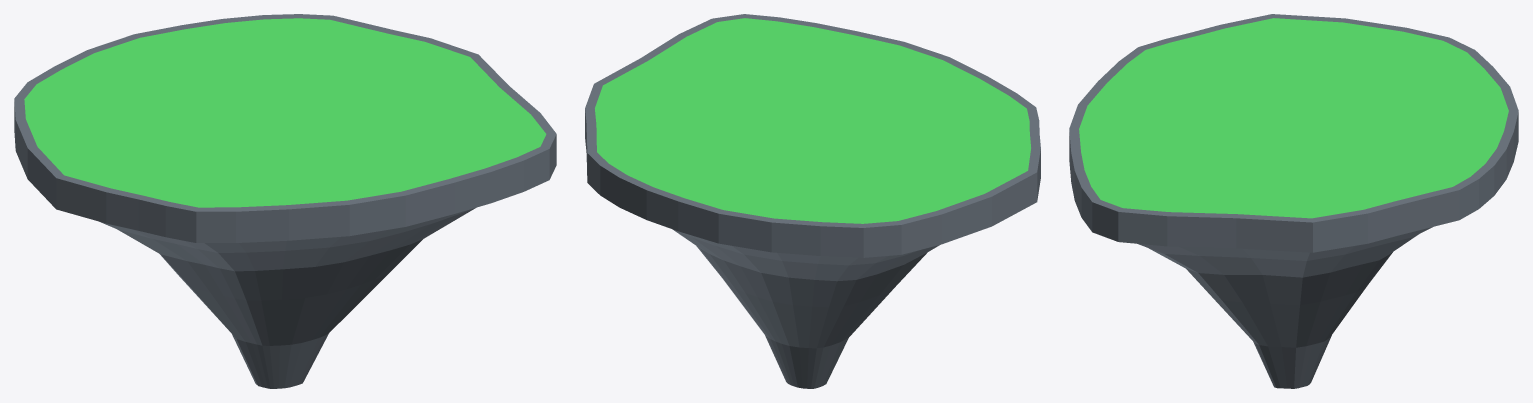
The model's file is medium_island_00.fbx.
3 views of the same model, side by side, from view 1: azimuth 30°, elevation 25°; view 2: azimuth 150°, elevation 25°; view 3: azimuth 270°, elevation 25° (orthographic). The views are drawn at different scales.
Visible parts, largest first — view 1: Plane.001; view 2: Plane.001; view 3: Plane.001.
Part boxes in pixels (x1,y1,x2,y2): Plane.001: (14, 14, 556, 388); Plane.001: (585, 14, 1040, 388); Plane.001: (1069, 14, 1518, 388).
Bounding box in the file's own units: 2960 × 1700 × 2696.
